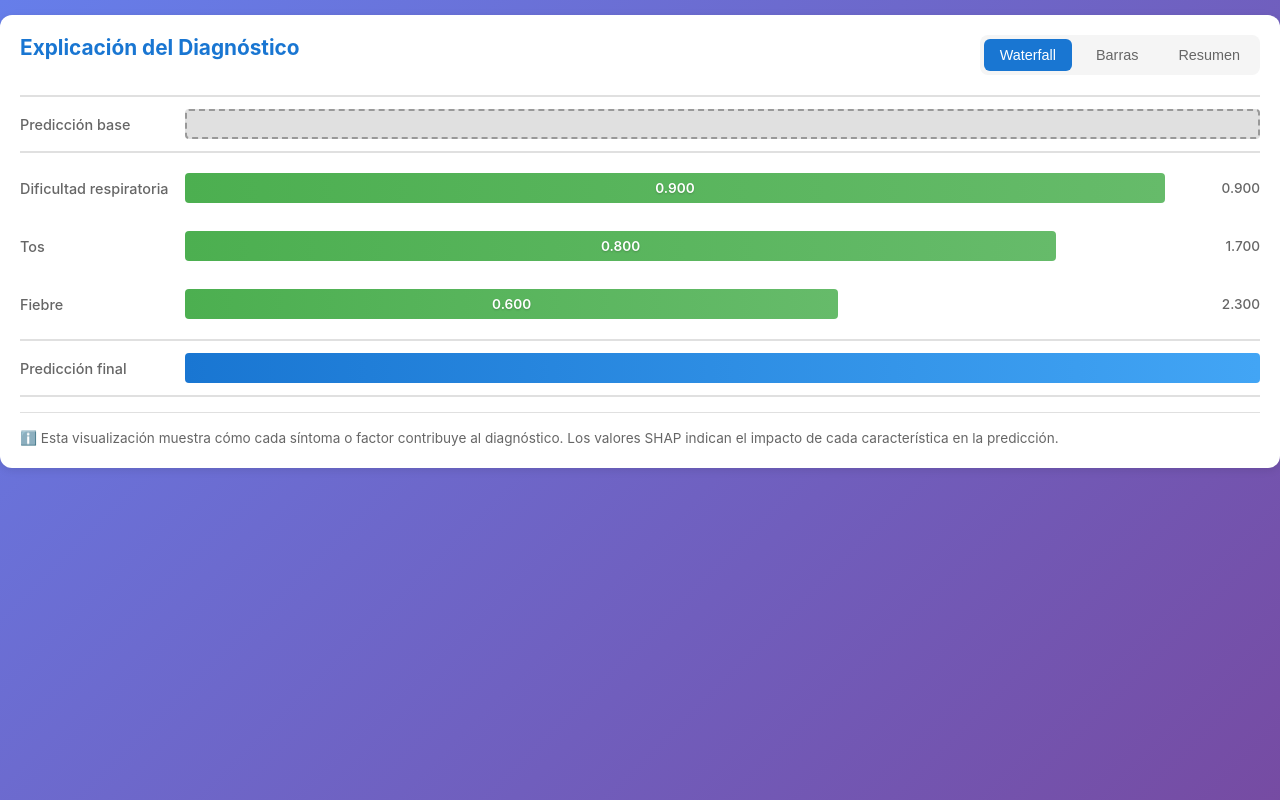
Test: SHAPVisualization › should switch to bar view
Click the button "Barras": (1117, 55) [1080,39,1154,71]
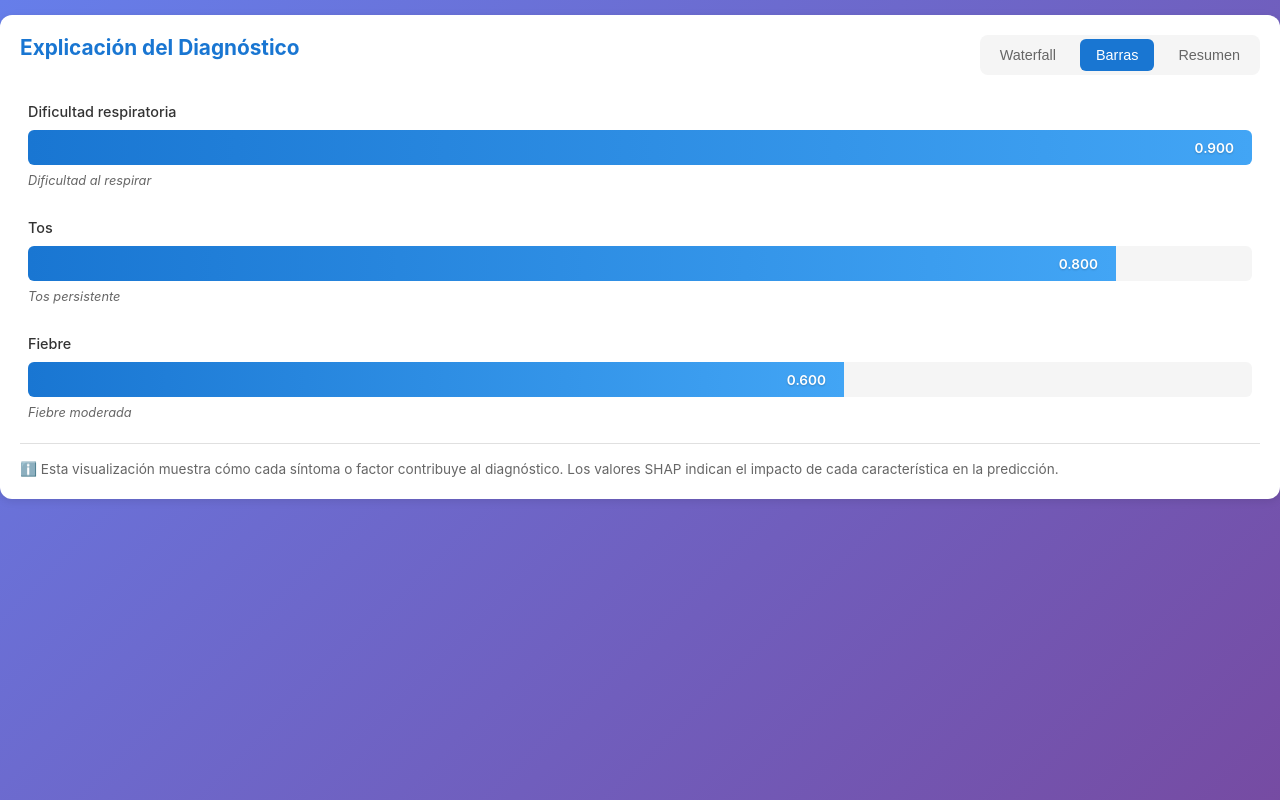
Expected: the button "Barras" has class "active", [1080,39,1154,71]
